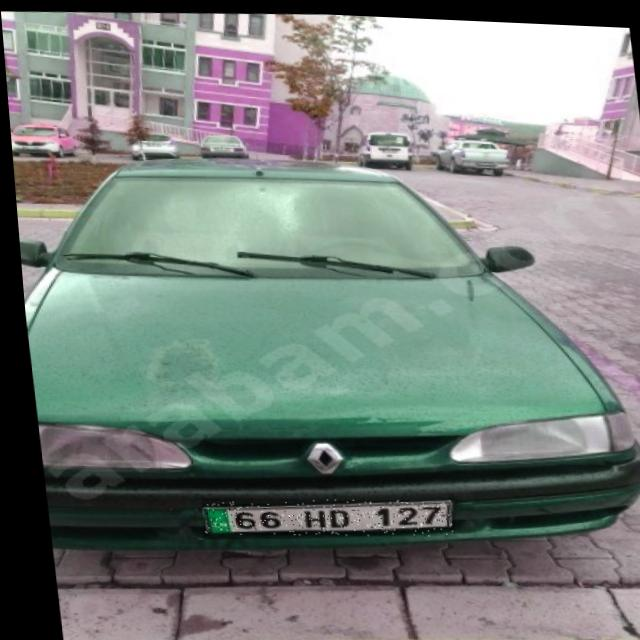license_plate: (192, 488, 447, 541)
